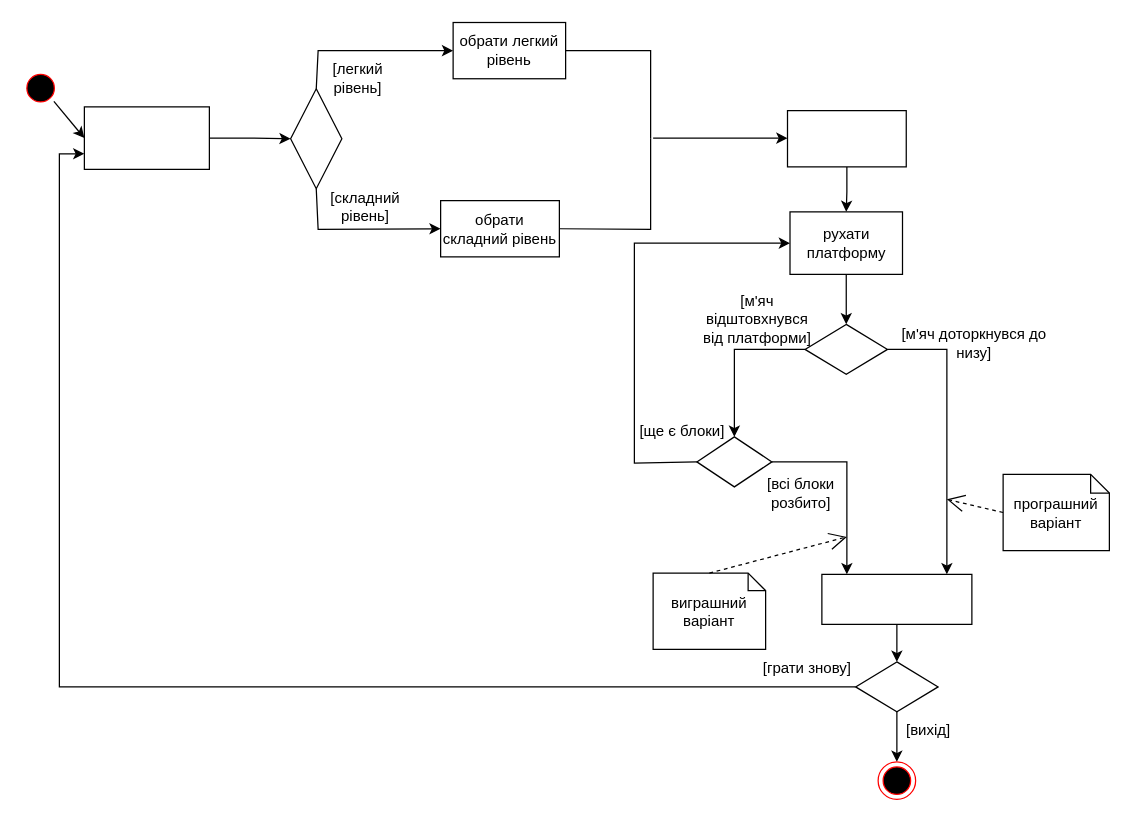
Image size: 1131x821. Some labels were removed from this diagram. The shapes that lost their labels are listed below. From the top down, each one's centre as x and y in pixels, then its label:
At pixel 146 137: "почати нову гру".
At pixel 846 138: "почати гру".
At pixel 896 598: "побачити результат".
